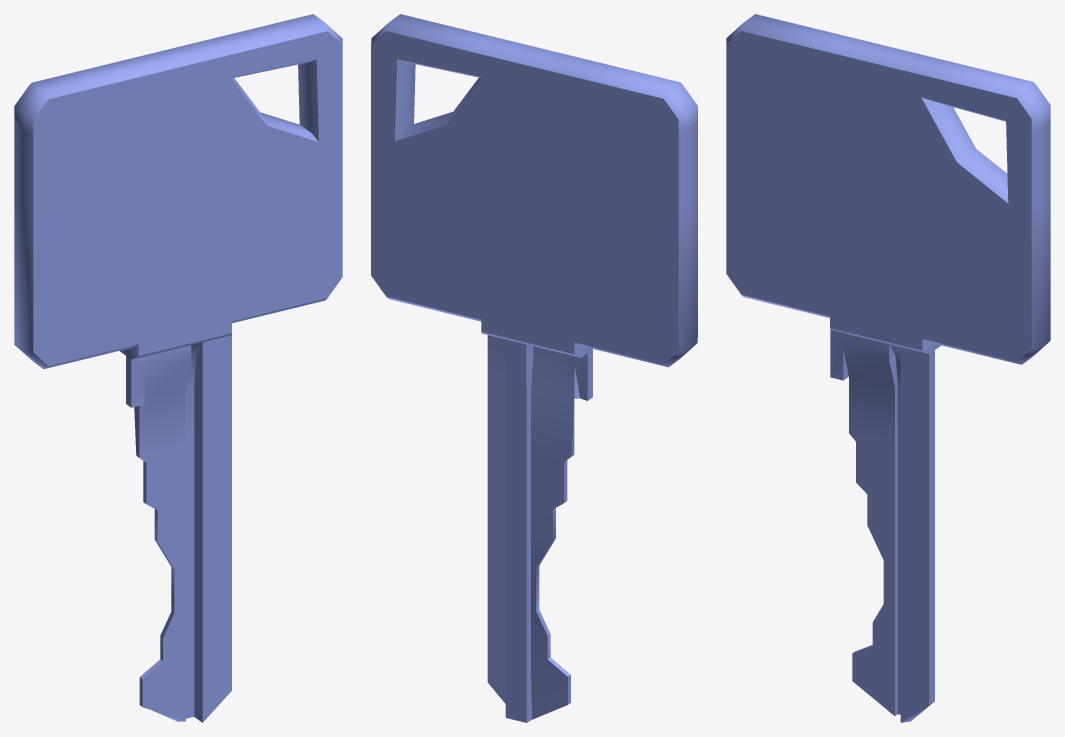
Rendered from Keys_42.FBX.
The picture shows the model from 3 angles, left to right: view 1: azimuth 30°, elevation 25°; view 2: azimuth 150°, elevation 25°; view 3: azimuth 330°, elevation 25°; orthographic projection.
Visible parts, largest first — view 1: Keys_42; view 2: Keys_42; view 3: Keys_42.
Part boxes in pixels (x1,y1,x2,y2): Keys_42: [14, 14, 342, 722]; Keys_42: [371, 14, 697, 722]; Keys_42: [726, 14, 1050, 722].
Size of the model in its own units: 1.03 by 2.08 by 0.1075.
